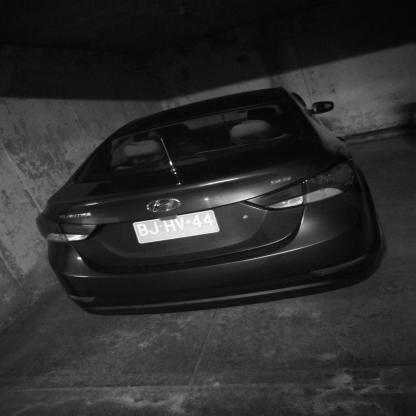Patente: (129, 206, 225, 250)
